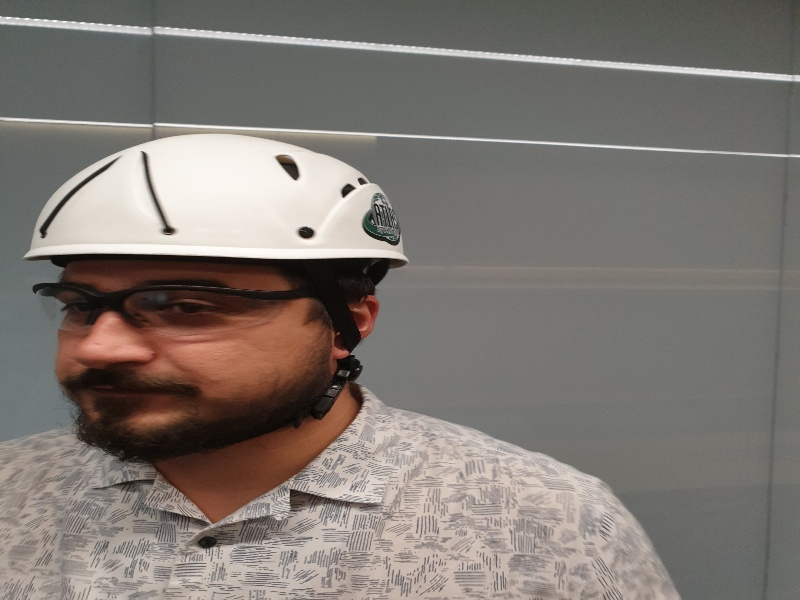Baret: (22, 132, 408, 265)
Gozluk: (29, 280, 307, 336)
